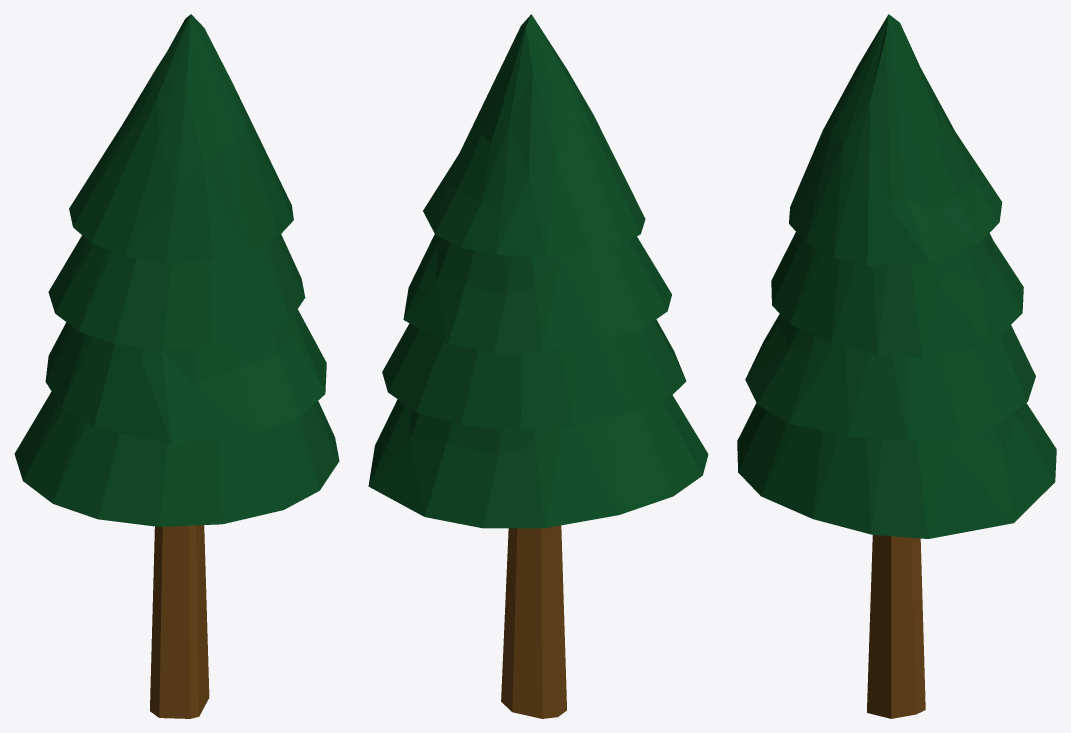
The model's file is Tree3.fbx.
3 renders of one model, left to right at view 1: azimuth 30°, elevation 25°; view 2: azimuth 150°, elevation 25°; view 3: azimuth 270°, elevation 25°, orthographic.
Parts seen in each view (by area): view 1: Cylinder.003; view 2: Cylinder.003; view 3: Cylinder.003.
Part boxes in pixels (x1,y1,x2,y2): Cylinder.003: (14, 14, 339, 718); Cylinder.003: (368, 14, 708, 718); Cylinder.003: (737, 14, 1056, 718).
Size of the model in its own units: 85.85 by 194 by 80.34.
